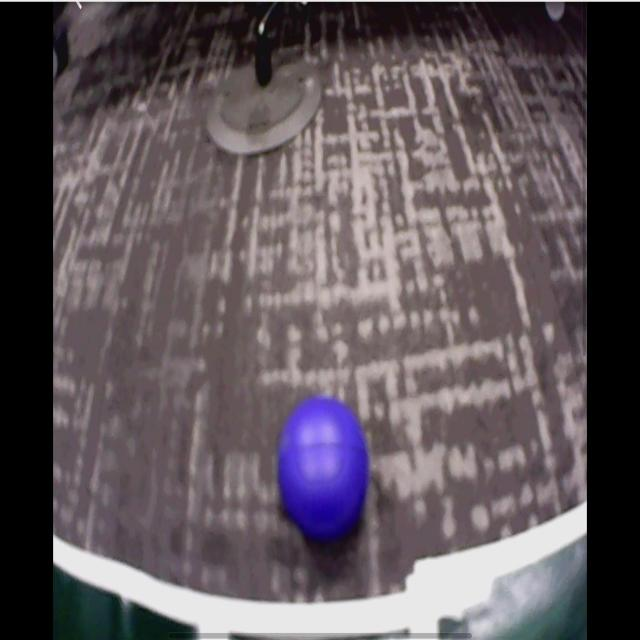ball: (279, 399, 370, 540)
